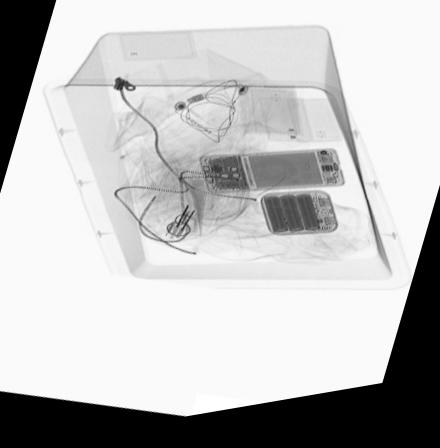Powerbank: (254, 201, 339, 247)
